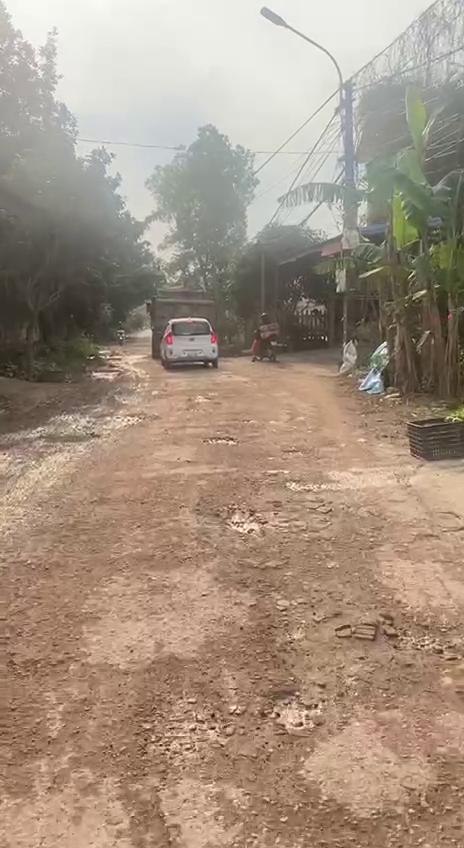pothole: (130, 680, 242, 772), (250, 685, 333, 744), (218, 503, 270, 540), (204, 432, 238, 448)
